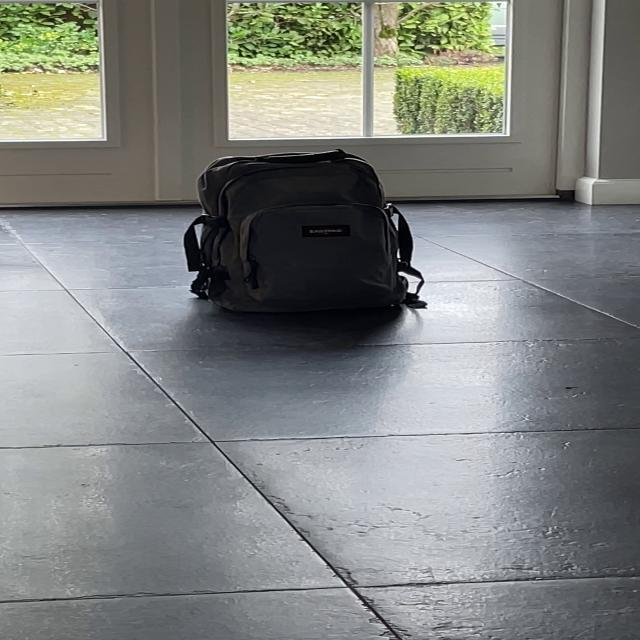backpack: (172, 142, 426, 326)
